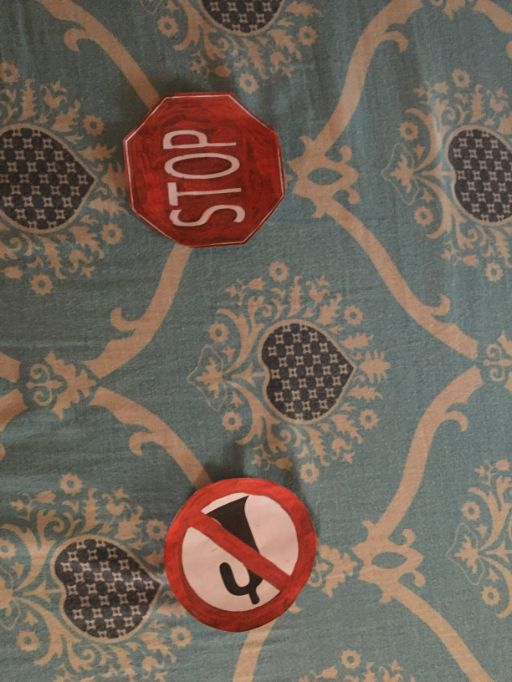no-horn: (163, 473, 315, 625)
stop: (122, 90, 284, 252)
